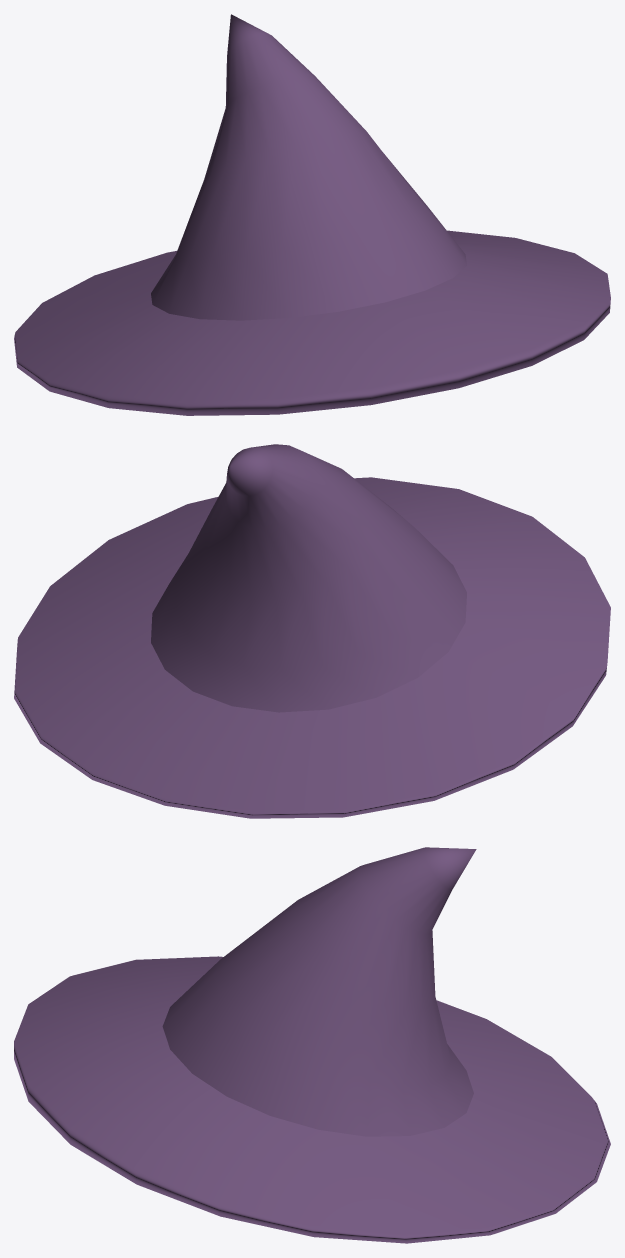
The model's file is Witch Hat.fbx.
3 views of the same model, one above another, from view 1: azimuth 30°, elevation 25°; view 2: azimuth 150°, elevation 25°; view 3: azimuth 270°, elevation 25° (orthographic).
Visible parts, largest first — view 1: polySurface454; view 2: polySurface454; view 3: polySurface454.
Boxes of the visible parts, <box> form: polySurface454: <box>14,14,610,415</box>; polySurface454: <box>14,444,610,818</box>; polySurface454: <box>14,847,610,1243</box>.
Size of the model in its own units: 0.0864 by 0.0458 by 0.084.
